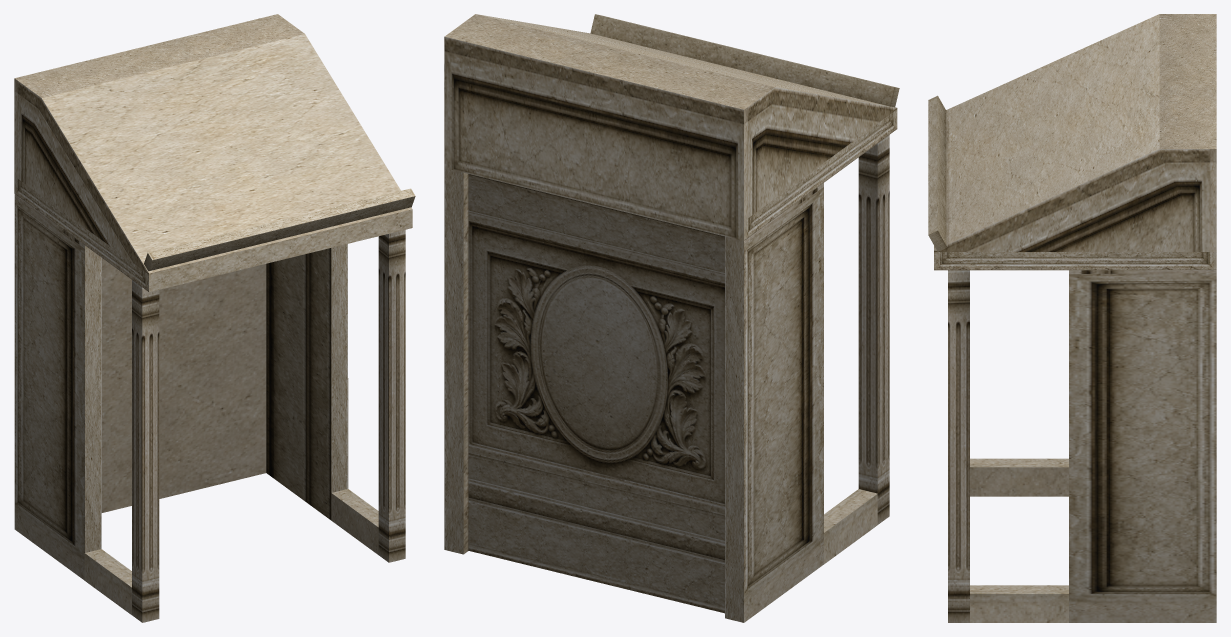
File: mm9_deco_podium02.glb
3 views of the same model, side by side, from view 1: azimuth 30°, elevation 25°; view 2: azimuth 150°, elevation 25°; view 3: azimuth 270°, elevation 25° (orthographic). The views are drawn at different scales.
Parts seen in each view (by area): view 1: Podium02; view 2: Podium02; view 3: Podium02.
Part boxes in pixels (left/top/right/bottom): Podium02: left=14, top=14, right=415, bottom=622; Podium02: left=444, top=14, right=899, bottom=622; Podium02: left=928, top=14, right=1216, bottom=622.
Size of the model in its own units: 1 by 1.63 by 0.9018.
1 material, 1 textured.
